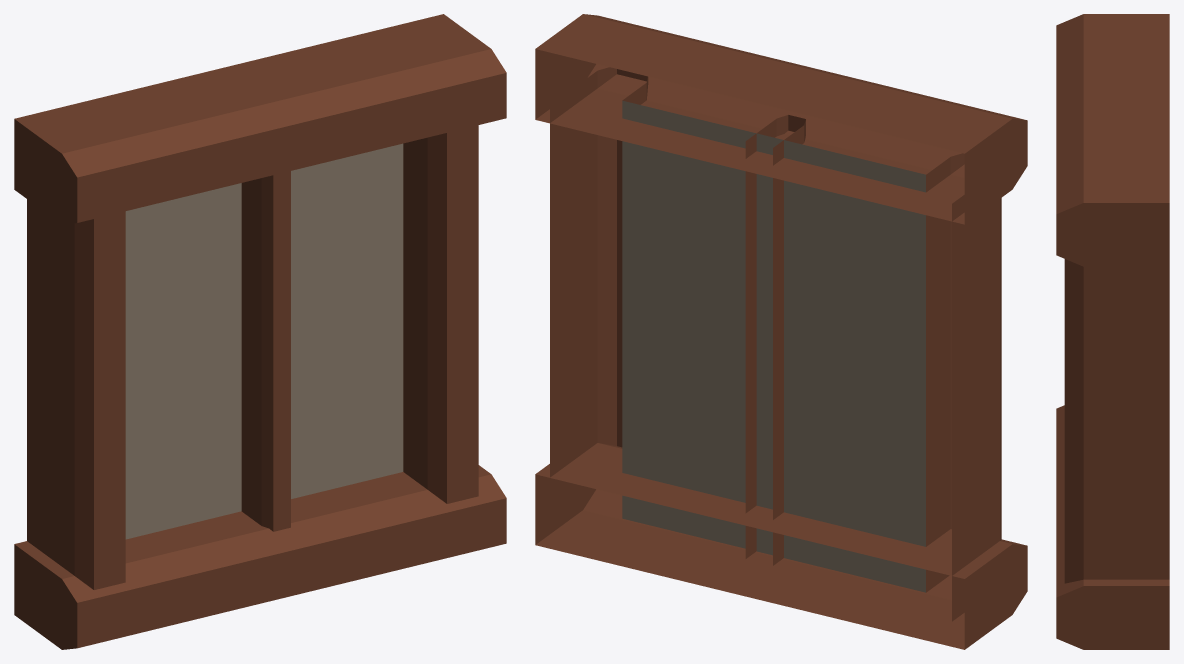
Rendered from Window_1.fbx.
The picture shows the model from 3 angles, left to right: view 1: azimuth 30°, elevation 25°; view 2: azimuth 150°, elevation 25°; view 3: azimuth 270°, elevation 25°; orthographic projection. The views are drawn at different scales.
Visible parts, largest first — view 1: Window_1; view 2: Window_1; view 3: Window_1.
Boxes of the visible parts, <box> form: Window_1: <box>14,14,506,649</box>; Window_1: <box>535,14,1027,649</box>; Window_1: <box>1056,14,1169,649</box>.
Bounding box in the file's own units: 0.774 × 0.8545 × 0.1966.
